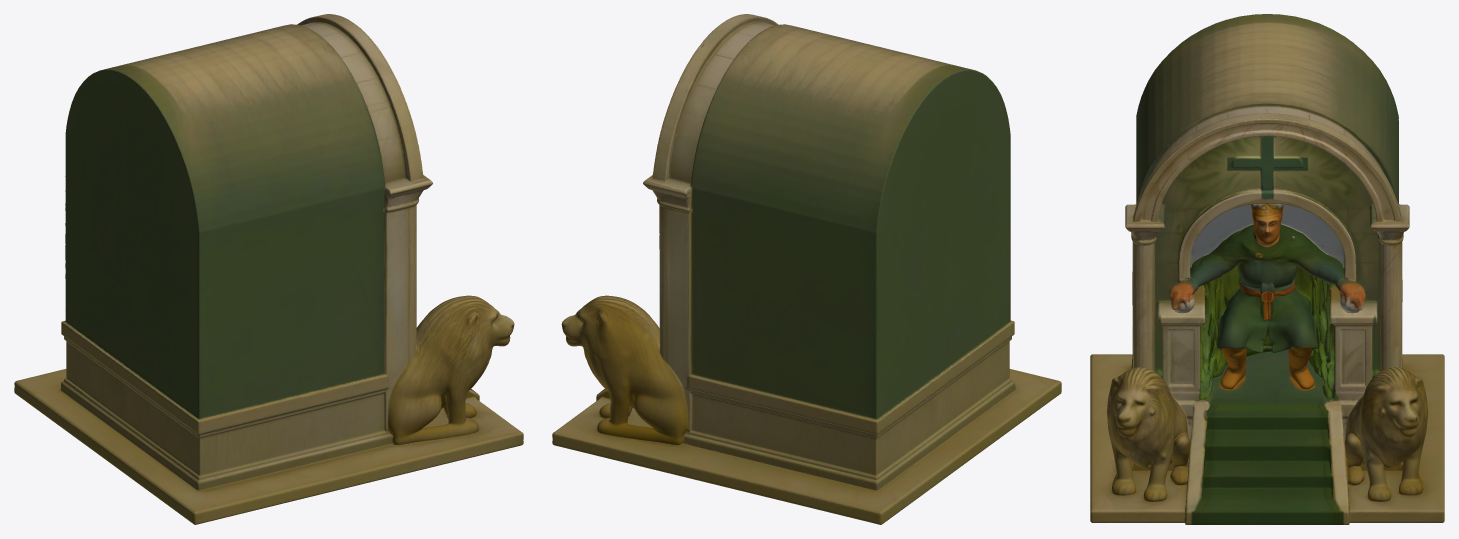
The model's file is Ferry-Monarch-figure.glb.
3 views of the same model, side by side, from view 1: azimuth 30°, elevation 25°; view 2: azimuth 150°, elevation 25°; view 3: azimuth 270°, elevation 25° (orthographic). The views are drawn at different scales.
Visible parts, largest first — view 1: tripo_node_0f045610-ab36-4248-8868-eee11c3b2fd7; view 2: tripo_node_0f045610-ab36-4248-8868-eee11c3b2fd7; view 3: tripo_node_0f045610-ab36-4248-8868-eee11c3b2fd7.
Part boxes in pixels (x1,y1,x2,y2): tripo_node_0f045610-ab36-4248-8868-eee11c3b2fd7: [14, 14, 523, 524]; tripo_node_0f045610-ab36-4248-8868-eee11c3b2fd7: [552, 14, 1061, 524]; tripo_node_0f045610-ab36-4248-8868-eee11c3b2fd7: [1090, 14, 1444, 524].
Size of the model in its own units: 0.9347 by 1 by 0.8729.
Materials: 1 (1 with a texture image).
